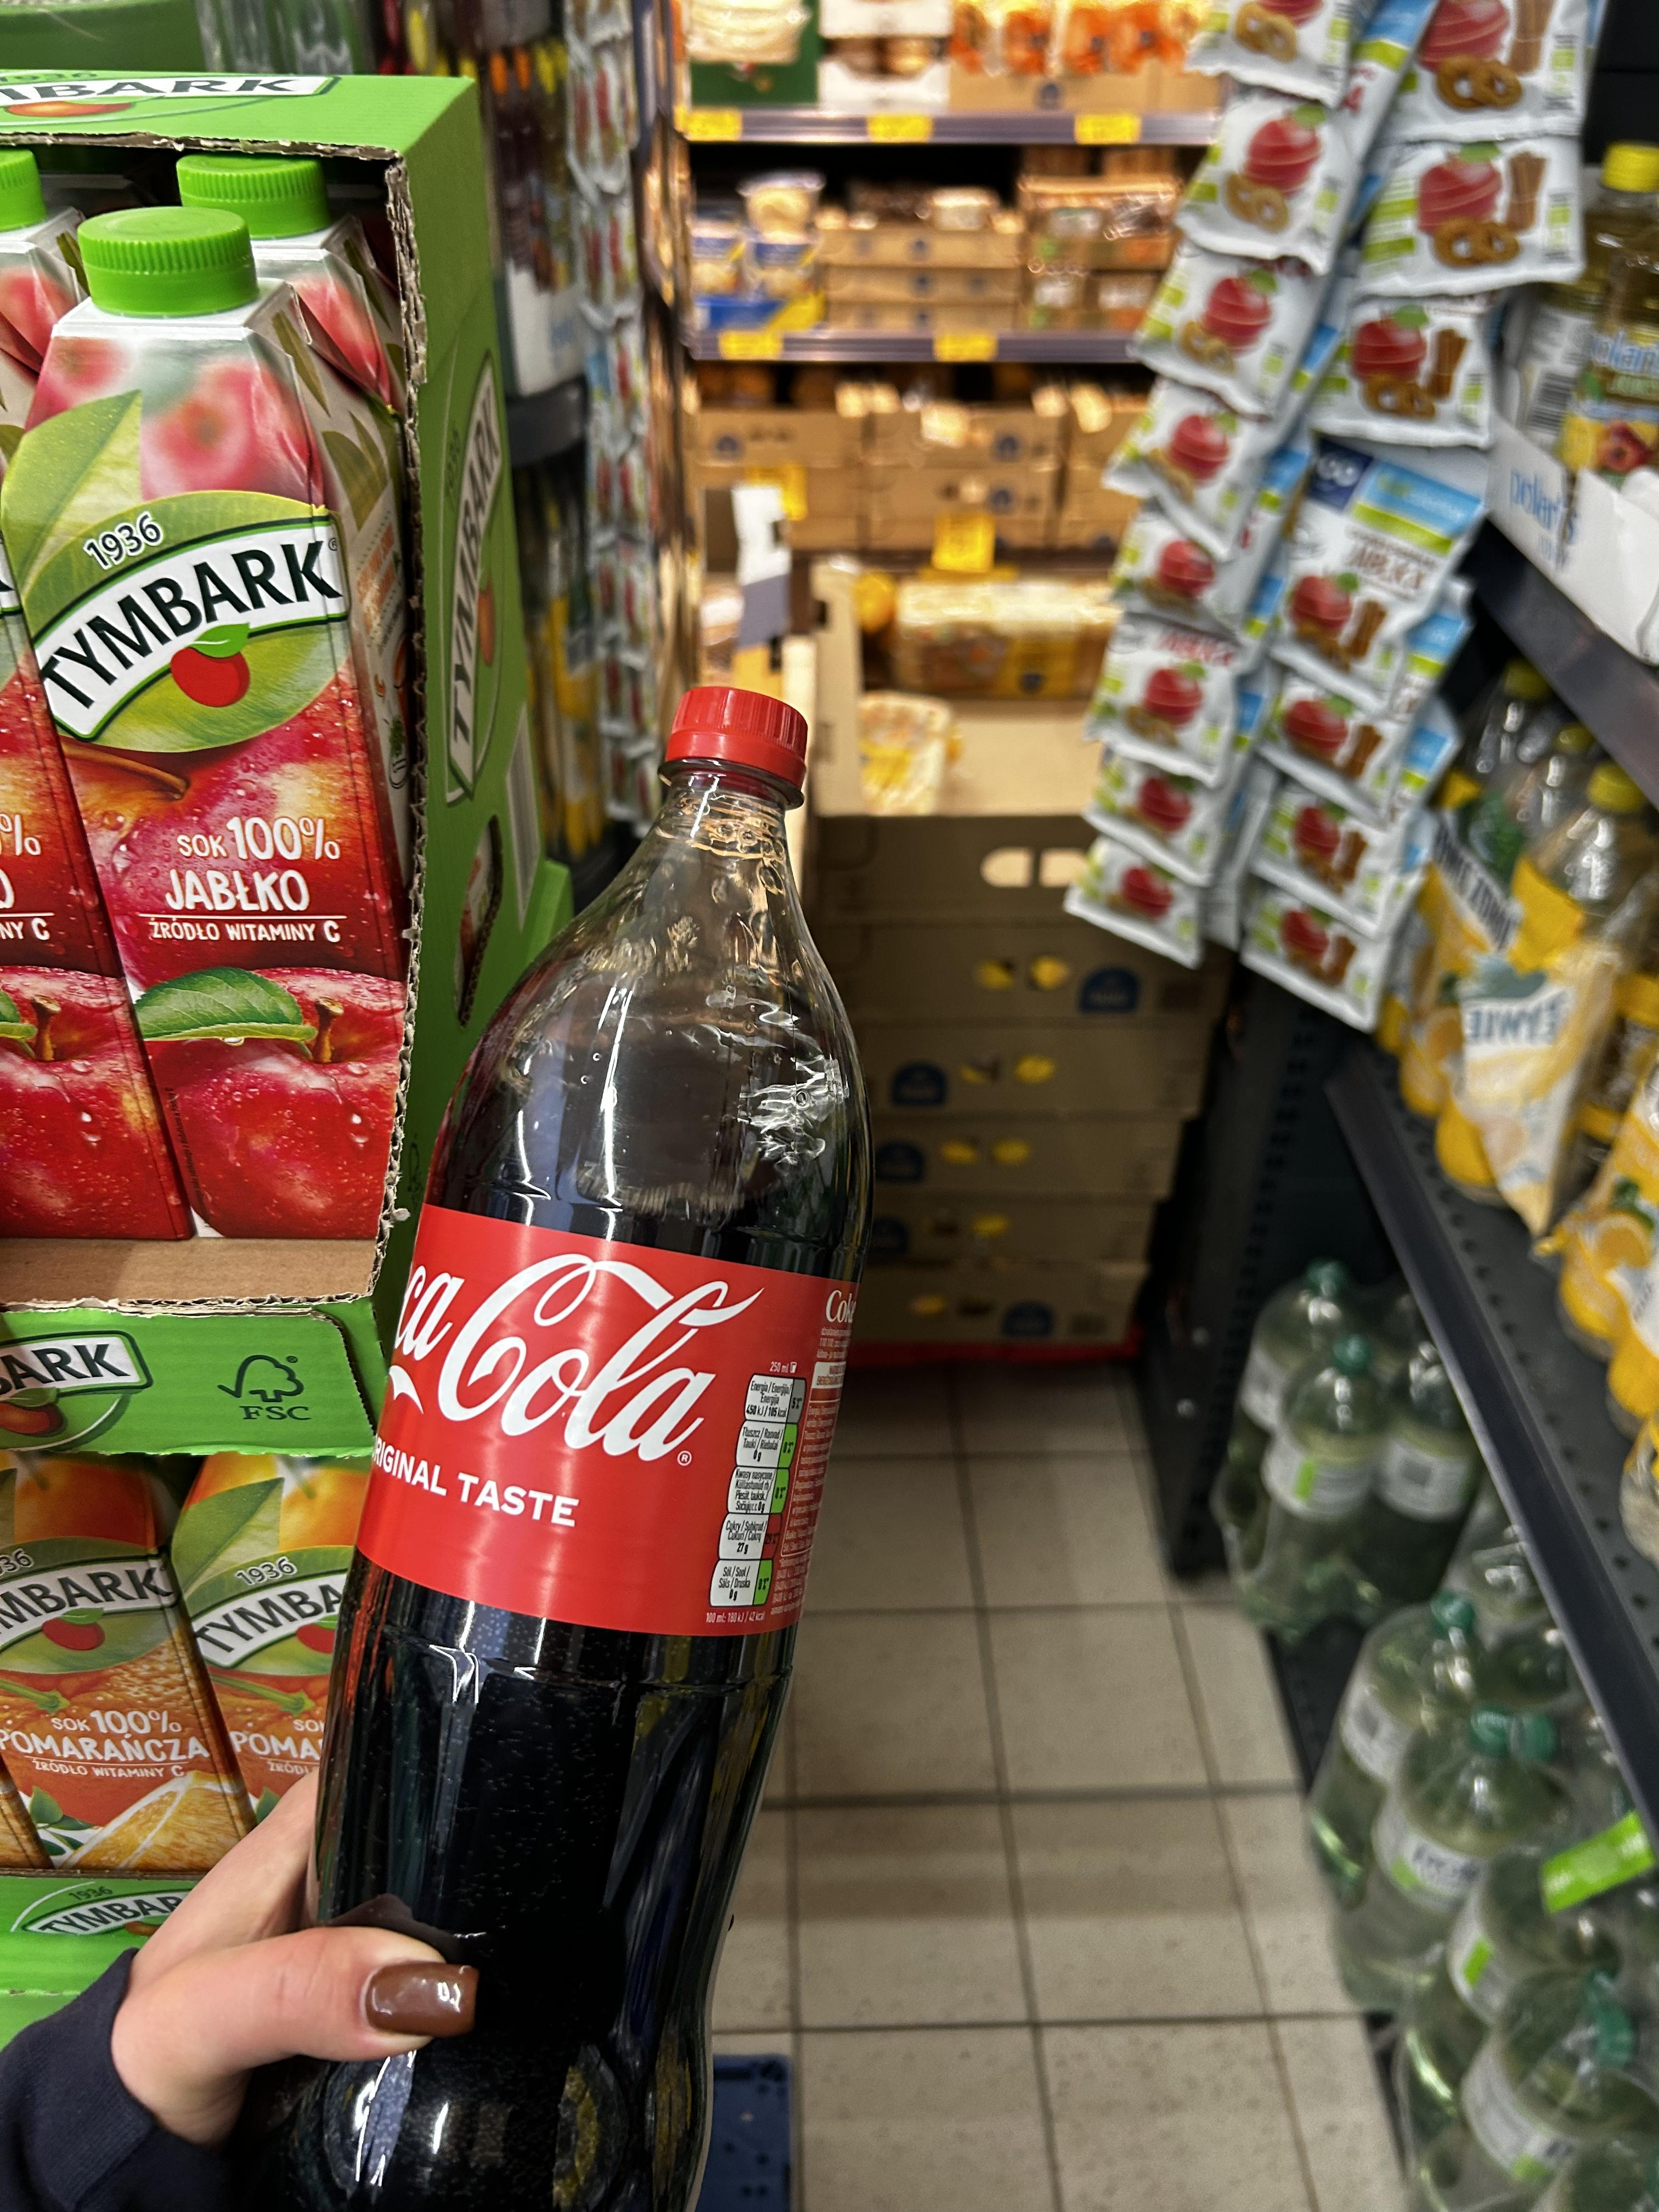Coca Cola: (354, 667, 887, 2212)
